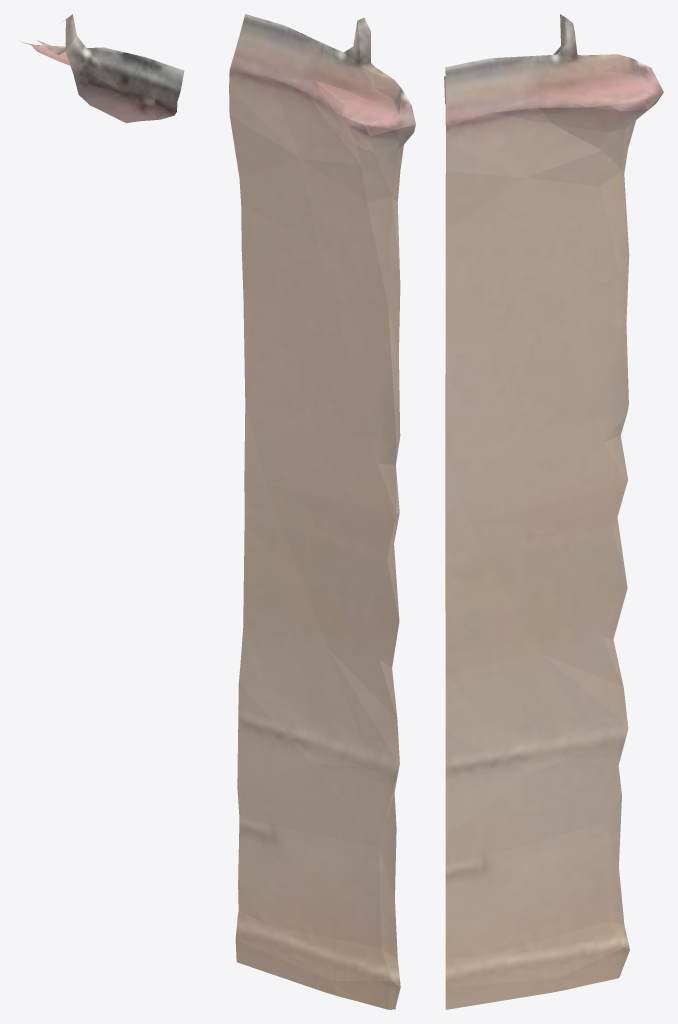
The model's file is Tile_+011_+008_L20_000001410.glb.
3 renders of one model, left to right at view 1: azimuth 30°, elevation 25°; view 2: azimuth 210°, elevation 25°; view 3: azimuth 270°, elevation 25°, orthographic.
Parts seen in each view (by area): view 1: rtc; view 2: rtc; view 3: rtc.
Part boxes in pixels (box(x1,y1,x2,y2)): rtc: box(20, 14, 184, 122); rtc: box(229, 14, 415, 1009); rtc: box(444, 14, 663, 1009).
Bounding box in the file's own units: 2.48 × 29.01 × 6.
1 material, 1 textured.
